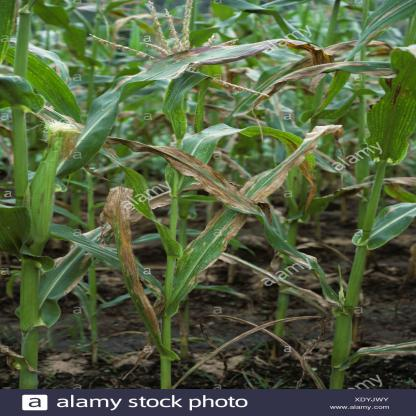corn leaf blight: (110, 136, 349, 310), (64, 37, 326, 174), (172, 124, 350, 306), (106, 184, 170, 349), (245, 59, 398, 107)
